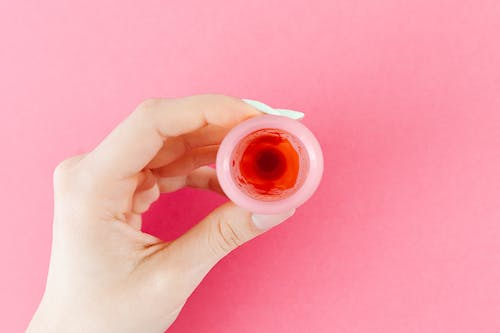blood: (229, 127, 311, 201)
